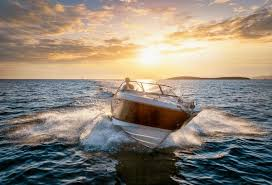boat: (110, 78, 203, 132)
